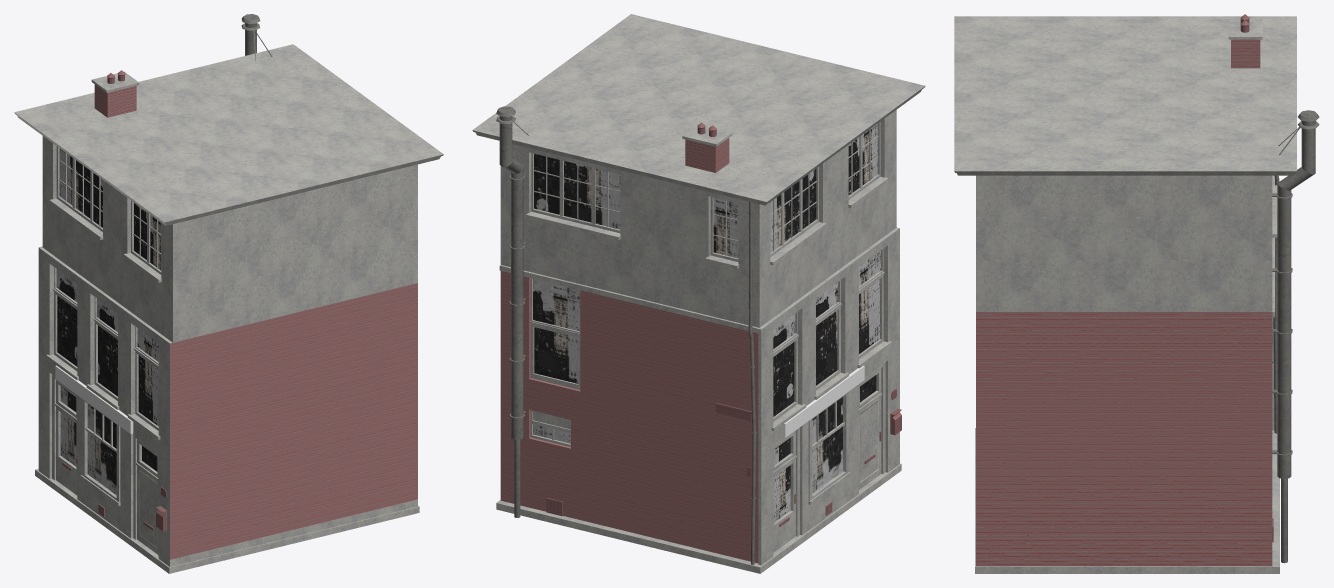
File: old_building.glb
3 views of the same model, side by side, from view 1: azimuth 30°, elevation 25°; view 2: azimuth 150°, elevation 25°; view 3: azimuth 270°, elevation 25° (orthographic). The views are drawn at different scales.
Visible parts, largest first — view 1: old_building_NYC_#3_wall, old_building_NYC_#3_wd_dr, old_building_NYC_#3_logo, old_building_NYC_#3_dets, old_building_NYC_#3_tube; view 2: old_building_NYC_#3_wall, old_building_NYC_#3_wd_dr, old_building_NYC_#3_tube, old_building_NYC_#3_dets, old_building_NYC_#3_logo; view 3: old_building_NYC_#3_wall, old_building_NYC_#3_tube.
Boxes of the visible parts, x1,y1,x2,y2 form: old_building_NYC_#3_wall: [14, 44, 443, 573]; old_building_NYC_#3_wd_dr: [52, 146, 161, 556]; old_building_NYC_#3_logo: [55, 365, 133, 433]; old_building_NYC_#3_dets: [62, 70, 167, 530]; old_building_NYC_#3_tube: [241, 14, 272, 60]; old_building_NYC_#3_wall: [472, 14, 925, 573]; old_building_NYC_#3_wd_dr: [530, 121, 885, 553]; old_building_NYC_#3_tube: [496, 106, 756, 564]; old_building_NYC_#3_dets: [546, 122, 901, 526]; old_building_NYC_#3_logo: [782, 365, 864, 437]; old_building_NYC_#3_wall: [954, 16, 1296, 573]; old_building_NYC_#3_tube: [1272, 110, 1319, 563].
Size of the model in its own units: 7.81 by 10.67 by 7.78.
6 materials, 5 textured.
